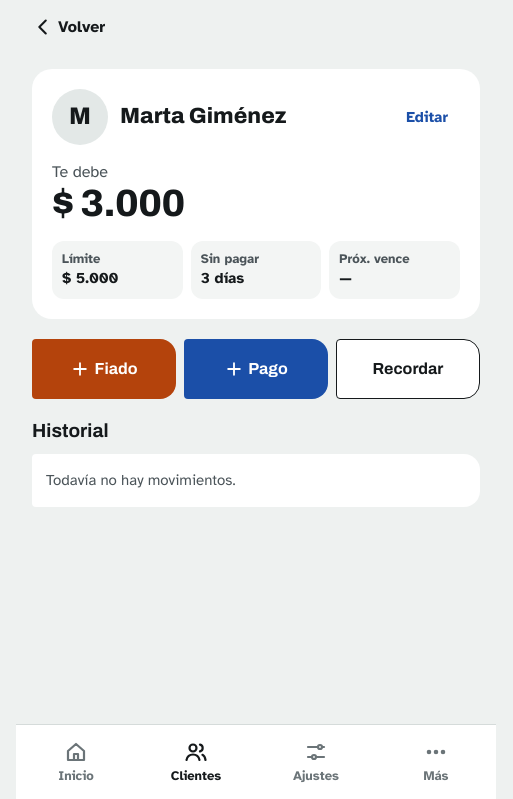
Test: Anotar fiado › desde la ficha: cliente elegido, monto con teclado, confirma y pasa por Listo
What coordinates should you click on to do the following:
click the button "Fiado"
I would click on:
 (104, 369)
Its box is [32,339,176,399].
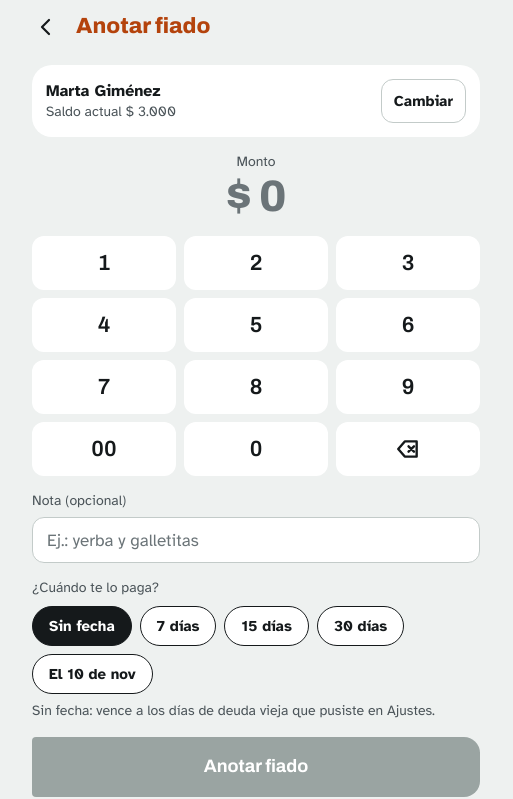
Check: the text "Saldo actual $ 3.000" is shown, box [46,103,176,120]
Check: the button "Anotar fiado" is disabled, box [32,737,480,797]
What coordinates should you click on to do the following:
click the button "4"
I would click on:
 (104, 325)
Its box is [32,298,176,352].
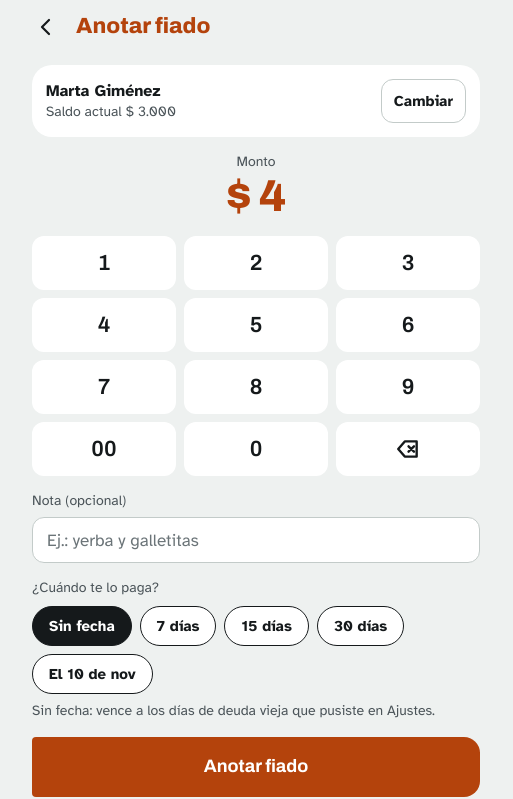
What coordinates should you click on to do the following:
click the button "2"
I would click on:
 (256, 263)
Its box is [184,236,328,290].
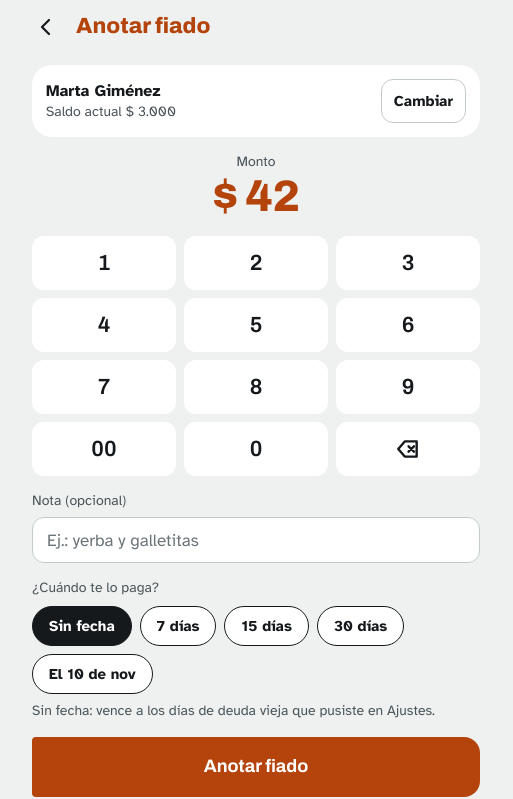
What coordinates should you click on to do the following:
click the button "00"
I would click on:
 (104, 449)
Its box is [32,422,176,476].
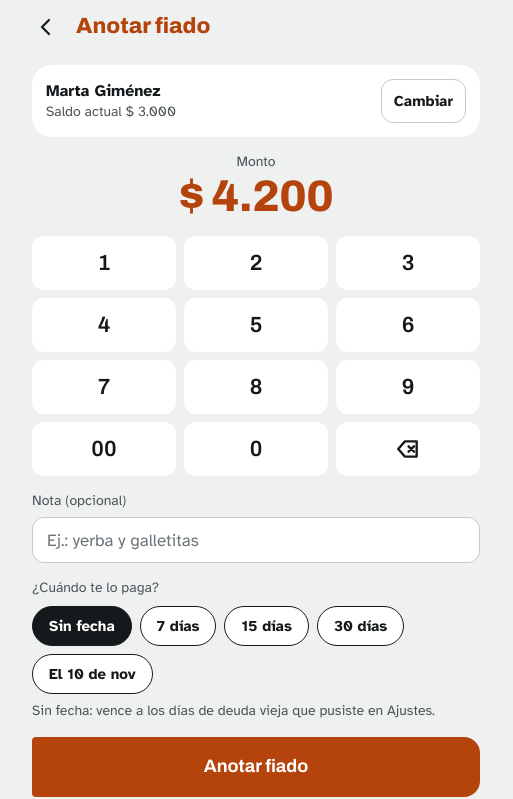
Check: the button "Anotar fiado" is enabled
What coordinates should you click on to do the following:
click the button "Anotar fiado"
I would click on:
 (256, 767)
Its box is [32,737,480,797].
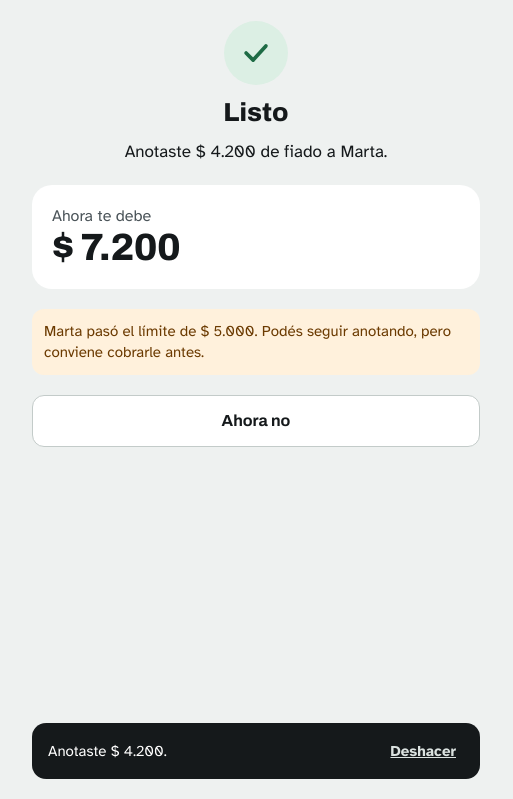
Check: the heading "Listo" is shown, box [223,97,289,128]
Check: the text "Anotaste $ 4.200 de fiado a Marta." is shown, box [125,140,387,165]
Check: the text "$ 7.200" is shown, box [52,227,180,268]
